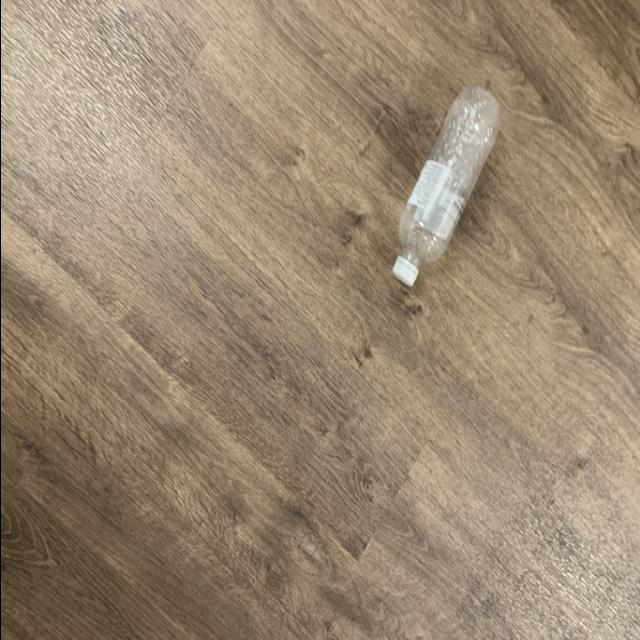litter: (392, 81, 498, 295)
